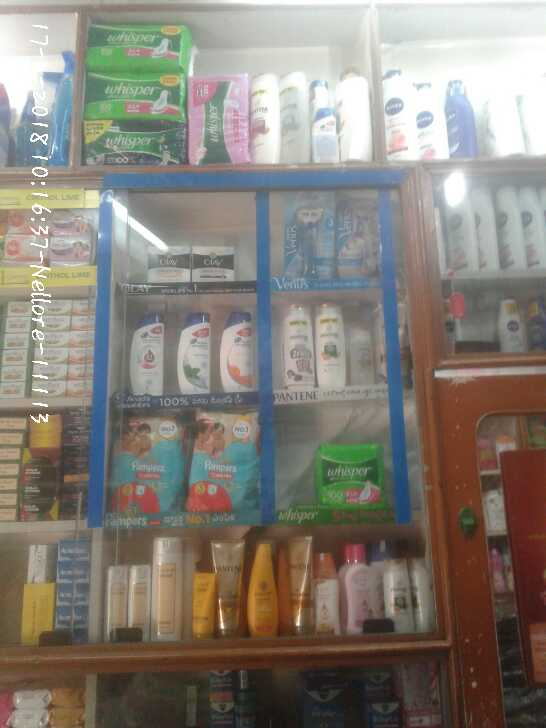venus: (285, 194, 334, 283), (334, 196, 378, 283)
